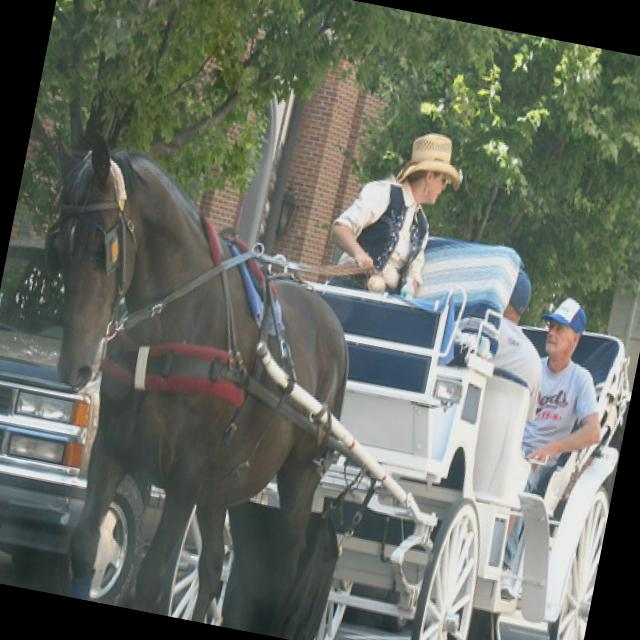Vehicle: (0, 231, 210, 611)
